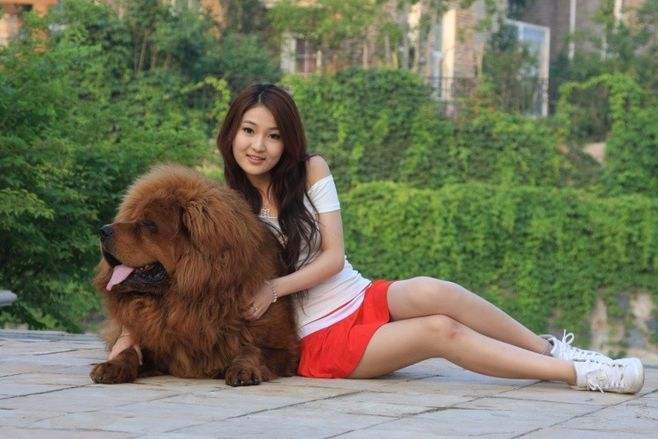person: (201, 83, 603, 435)
